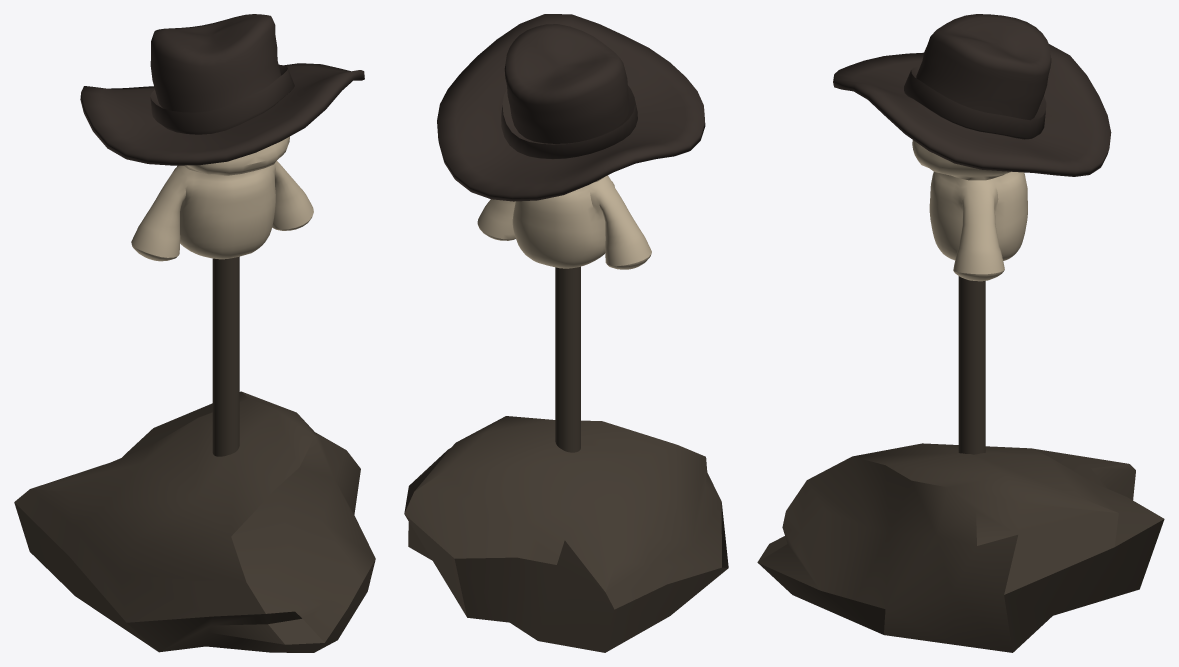
Rendered from Dummy.fbx.
3 views of the same model, side by side, from view 1: azimuth 30°, elevation 25°; view 2: azimuth 150°, elevation 25°; view 3: azimuth 270°, elevation 25° (orthographic). The views are drawn at different scales.
Parts seen in each view (by area): view 1: Rock, Hat, Body, Stick; view 2: Rock, Hat, Body, Stick; view 3: Rock, Hat, Body, Stick.
Part boxes in pixels (x1,y1,x2,y2): Rock: (14, 391, 375, 652); Hat: (80, 14, 364, 165); Body: (131, 136, 313, 261); Stick: (212, 256, 239, 456); Rock: (404, 416, 728, 652); Hat: (437, 14, 705, 201); Body: (477, 175, 651, 269); Stick: (555, 266, 580, 452); Rock: (757, 443, 1164, 652); Hat: (833, 14, 1111, 176); Body: (912, 140, 1027, 281); Stick: (958, 276, 985, 454).
Bounding box in the file's own units: 120 × 230 × 150.
